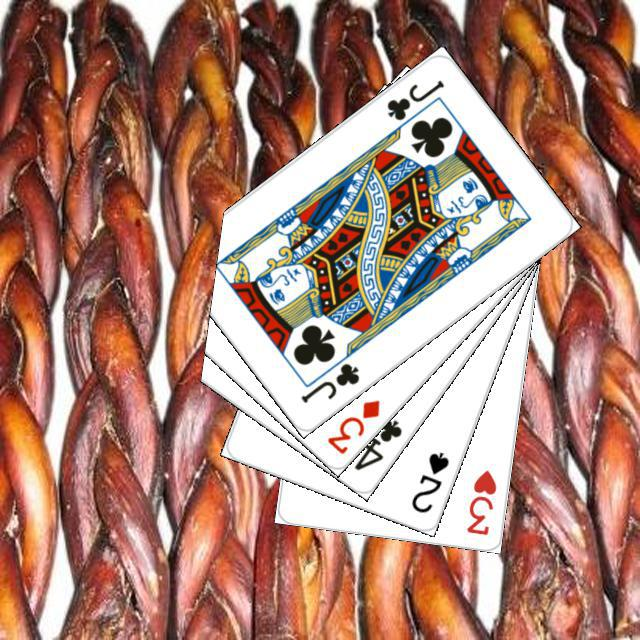2s: (406, 447, 451, 515)
3d: (322, 394, 382, 456)
3h: (462, 465, 498, 537)
4c: (349, 413, 404, 473)
Jc: (295, 357, 361, 405), (381, 75, 446, 123)
